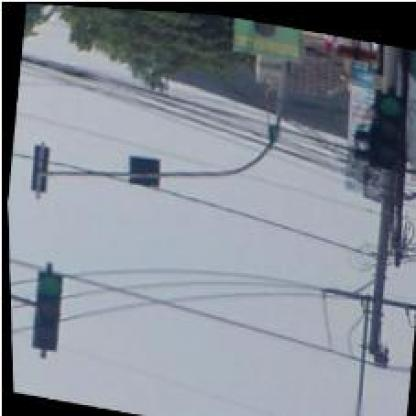green: (366, 84, 408, 169), (27, 264, 65, 348)
